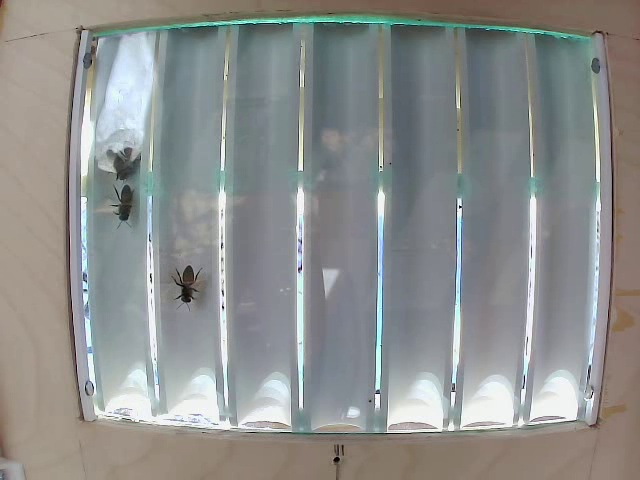bee: (171, 261, 218, 323), (116, 194, 155, 237), (105, 135, 142, 180)
